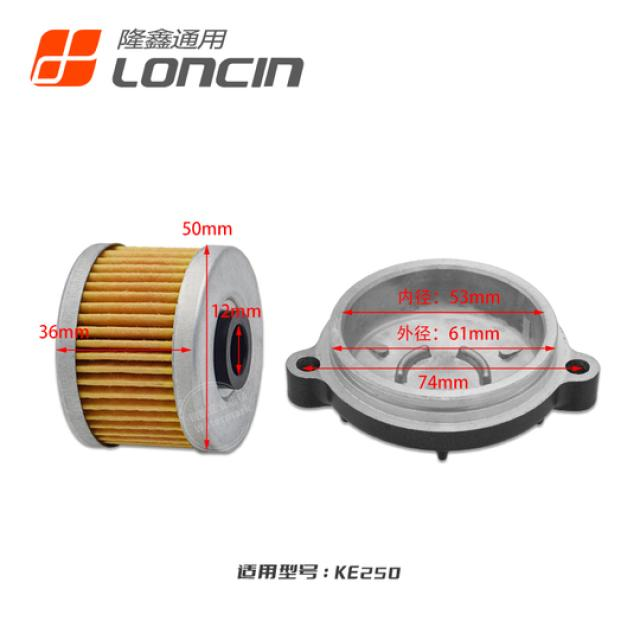oil_filter: (44, 212, 272, 510)
